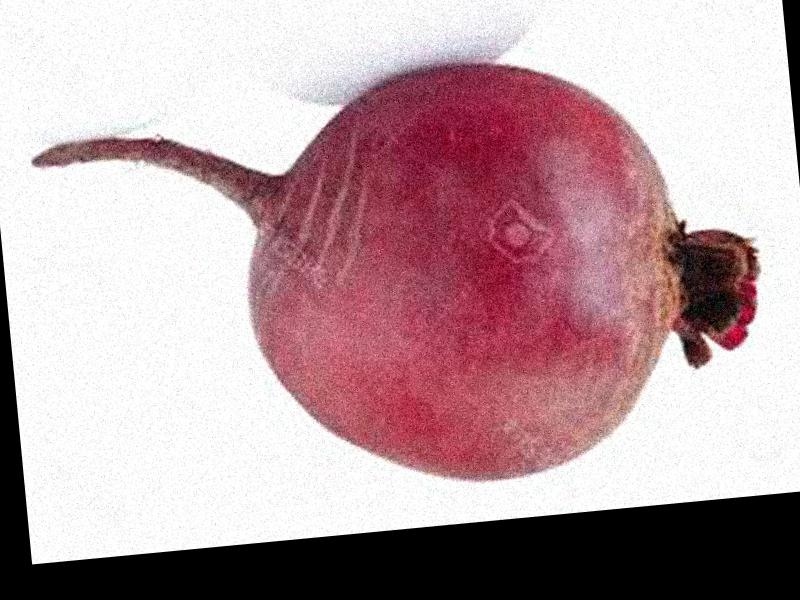Beet: (26, 39, 769, 517)
